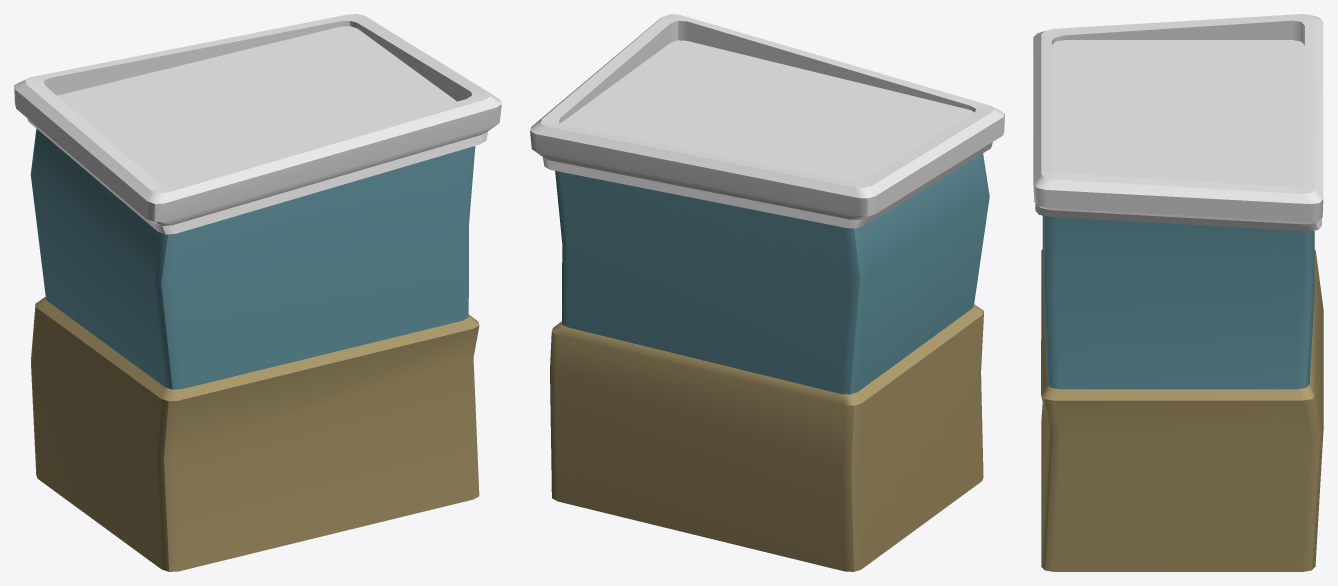
Rendered from batiment_b.fbx.
3 renders of one model, left to right at view 1: azimuth 30°, elevation 25°; view 2: azimuth 150°, elevation 25°; view 3: azimuth 270°, elevation 25°, orthographic. The views are drawn at different scales.
Visible parts, largest first — view 1: batiment_02; view 2: batiment_02; view 3: batiment_02.
Part boxes in pixels (x1,y1,x2,y2): batiment_02: [14, 14, 501, 571]; batiment_02: [530, 14, 1004, 571]; batiment_02: [1033, 14, 1323, 571].
Size of the model in its own units: 24.4 by 26.22 by 17.3.
